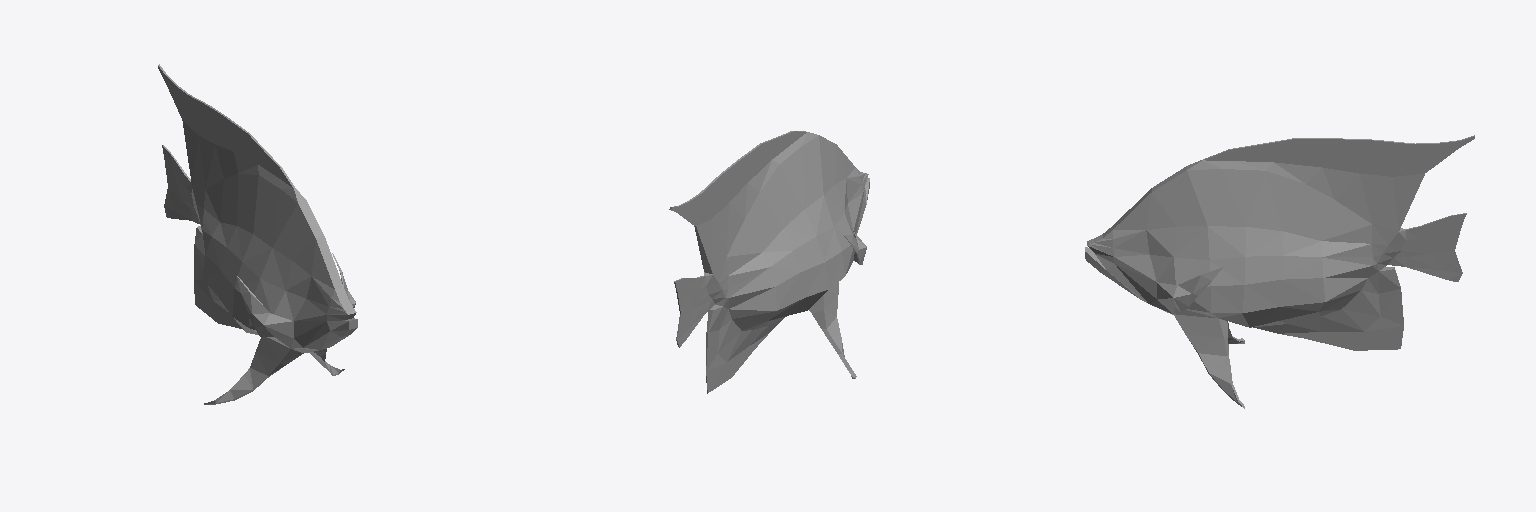
The model's file is TropicalFish15.obj.
The picture shows the model from 3 angles: view 1: azimuth 30°, elevation 25°; view 2: azimuth 150°, elevation 25°; view 3: azimuth 270°, elevation 25°; orthographic projection.
Visible parts, largest first — view 1: TropicalFish15; view 2: TropicalFish15; view 3: TropicalFish15.
Part boxes in pixels (x1,y1,x2,y2): TropicalFish15: (158, 64, 357, 404); TropicalFish15: (669, 131, 869, 393); TropicalFish15: (1085, 135, 1474, 408).
Size of the model in its own units: 191 by 311 by 458.